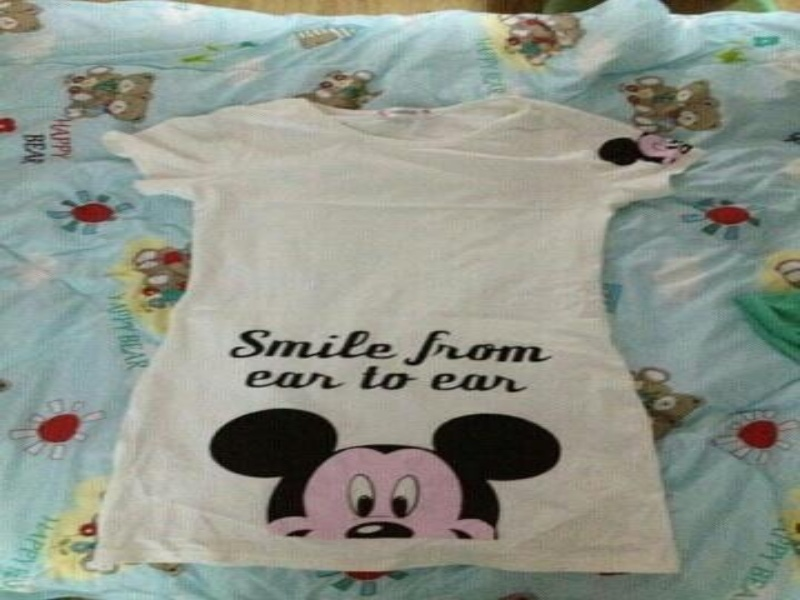short_sleeved_dress: (87, 91, 716, 514)
